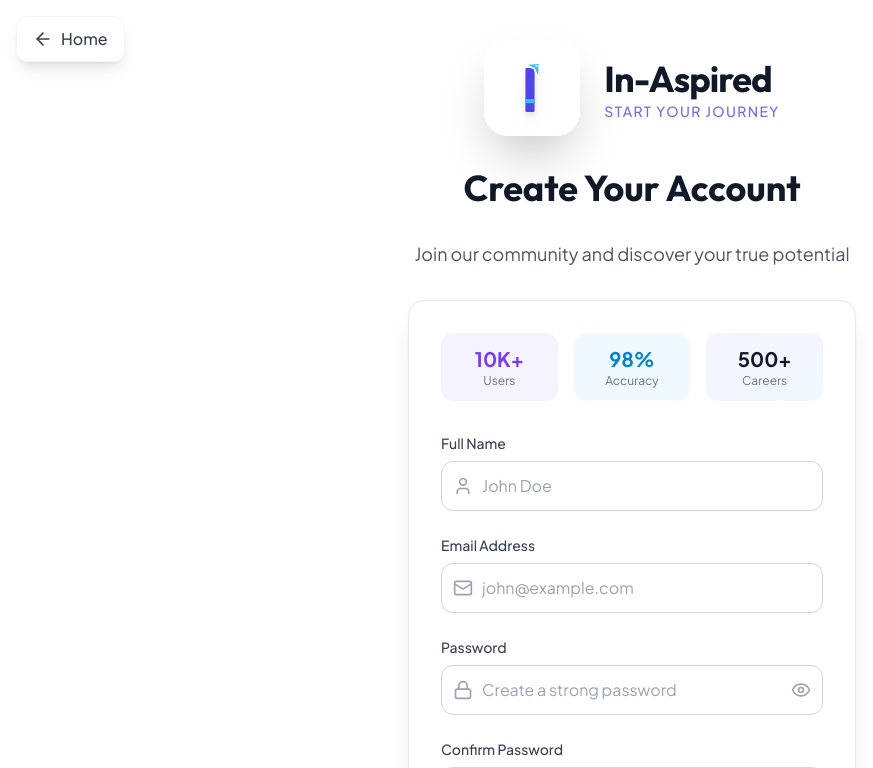
Test: SignUpPage Integration › should show validation errors
This screenshot has width=873, height=768.
Change value to invalid email
Type "invalid-email" into the field with placeholder "john@example.com" at x=632, y=588, box [441, 563, 823, 613]
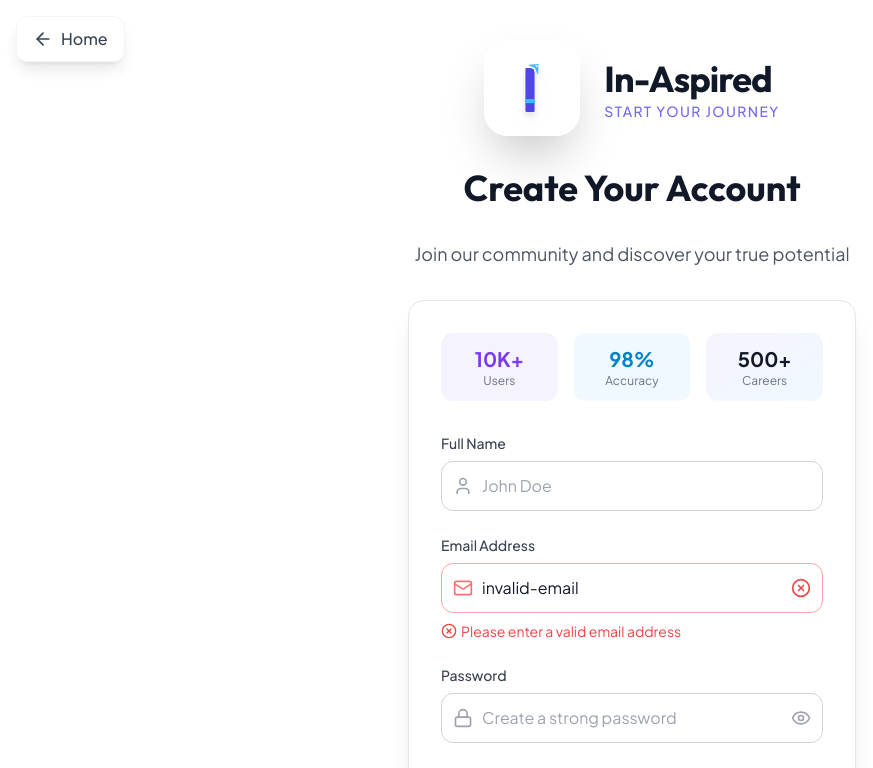
Expected: the text "Please enter a valid email address" is shown, [441, 622, 681, 640]
